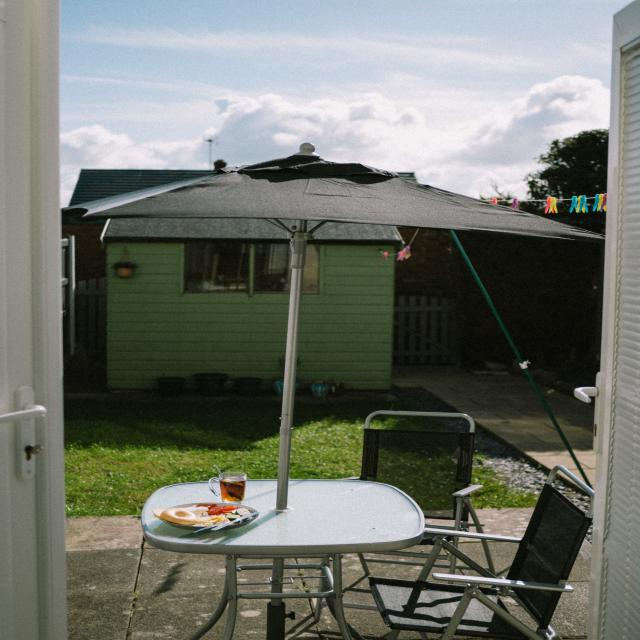Dish: (157, 495, 264, 543)
a glass: (206, 462, 276, 528)
chair: (370, 495, 640, 640), (346, 400, 492, 599)
table: (138, 458, 438, 572)
